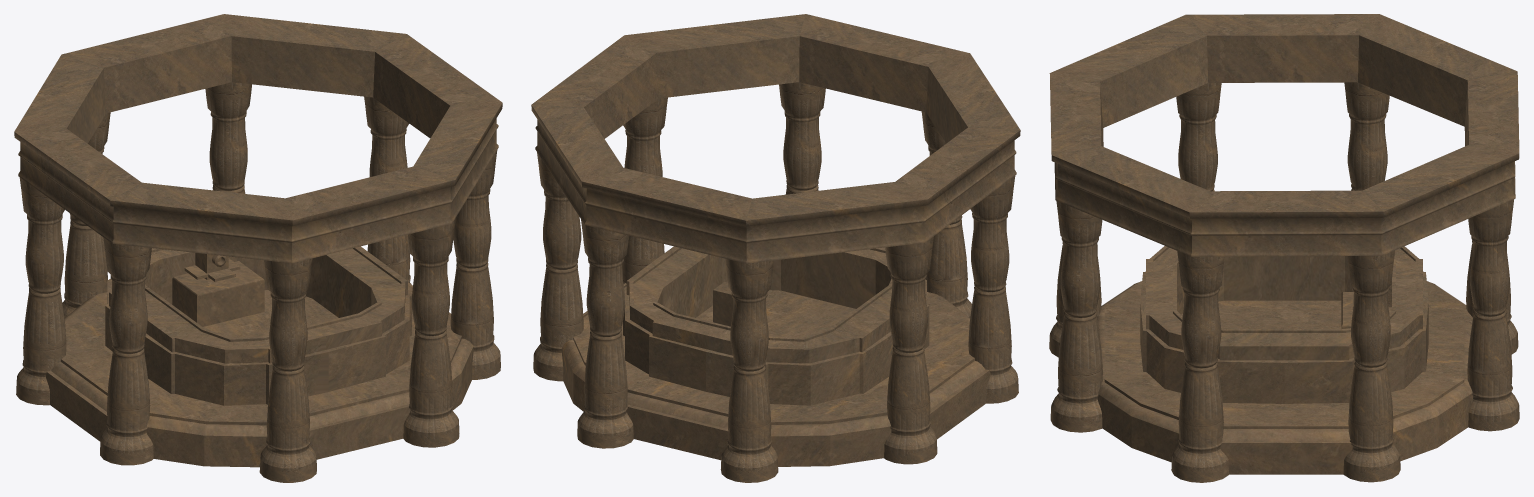
The model's file is PM_LargeFountain.fbx.
The picture shows the model from 3 angles, left to right: view 1: azimuth 30°, elevation 25°; view 2: azimuth 150°, elevation 25°; view 3: azimuth 270°, elevation 25°; orthographic projection. The views are drawn at different scales.
Parts seen in each view (by area): view 1: polySurface7, object2:Group2, polySurface20, polySurface28, polySurface21, polySurface27, polySurface26, polySurface22, polySurface24, polySurface19, polySurface23, polySurface25 (+1 smaller); view 2: polySurface7, object2:Group2, polySurface20, polySurface25, polySurface24, polySurface26, polySurface27, polySurface23, polySurface21, polySurface22, polySurface28, polySurface10; view 3: polySurface7, polySurface20, object2:Group2, polySurface22, polySurface23, polySurface21, polySurface24, polySurface26, polySurface27, polySurface28, polySurface25.
Boxes of the visible parts, <box> form: polySurface7: <box>14,14,502,263</box>; object2:Group2: <box>105,246,411,405</box>; polySurface20: <box>46,282,473,467</box>; polySurface28: <box>259,258,316,482</box>; polySurface21: <box>403,218,459,447</box>; polySurface27: <box>100,237,153,465</box>; polySurface26: <box>16,177,66,405</box>; polySurface22: <box>450,150,500,379</box>; polySurface24: <box>205,82,251,193</box>; polySurface19: <box>172,261,264,326</box>; polySurface23: <box>364,96,411,284</box>; polySurface25: <box>62,112,110,317</box>; polySurface7: <box>531,14,1020,263</box>; object2:Group2: <box>623,246,929,405</box>; polySurface20: <box>562,283,990,466</box>; polySurface25: <box>720,258,778,482</box>; polySurface24: <box>577,219,633,448</box>; polySurface26: <box>884,236,937,464</box>; polySurface27: <box>968,176,1018,403</box>; polySurface23: <box>533,152,583,381</box>; polySurface21: <box>779,82,825,194</box>; polySurface22: <box>622,97,667,283</box>; polySurface28: <box>921,111,971,317</box>; polySurface10: <box>713,281,732,326</box>; polySurface7: <box>1049,14,1519,256</box>; polySurface20: <box>1097,281,1472,474</box>; object2:Group2: <box>1140,246,1428,403</box>; polySurface22: <box>1171,251,1229,482</box>; polySurface23: <box>1343,250,1400,482</box>; polySurface21: <box>1050,201,1102,432</box>; polySurface24: <box>1467,199,1519,431</box>; polySurface26: <box>1344,82,1389,190</box>; polySurface27: <box>1176,83,1221,191</box>; polySurface28: <box>1049,242,1101,357</box>; polySurface25: <box>1466,240,1518,354</box>.
Bounding box in the file's own units: 1616 × 1024 × 1616.
Materials: 1 (1 with a texture image).
